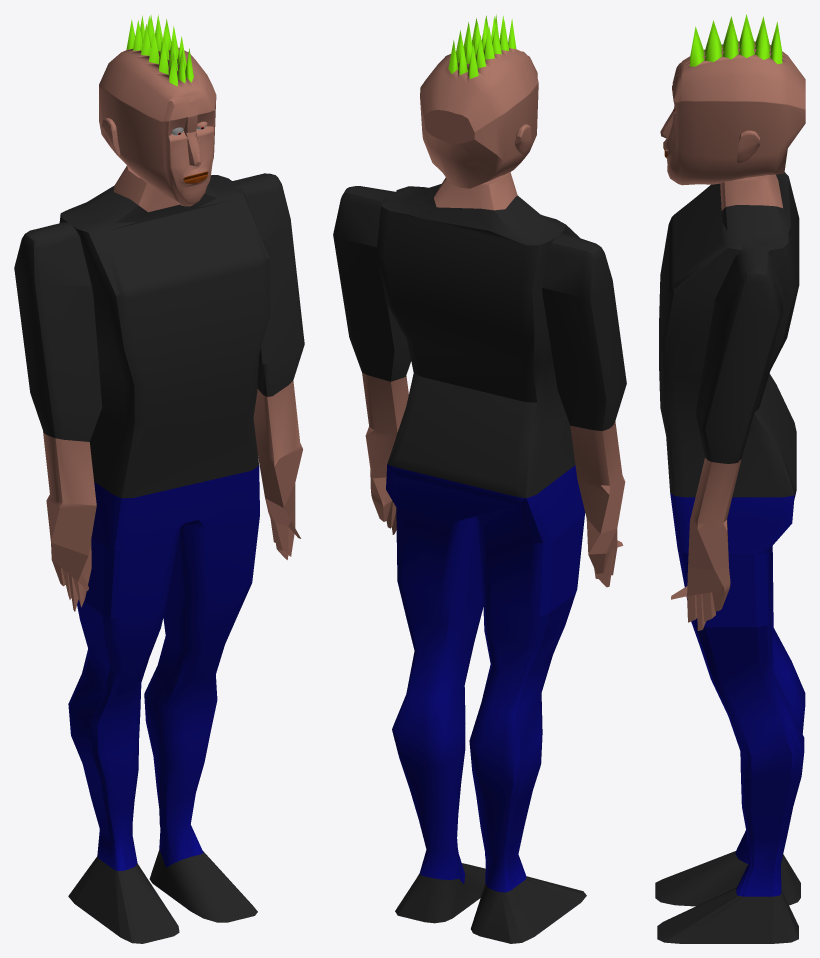
File: human_punk.fbx
The picture shows the model from 3 angles, left to right: view 1: azimuth 30°, elevation 25°; view 2: azimuth 150°, elevation 25°; view 3: azimuth 270°, elevation 25°; orthographic projection.
Parts seen in each view (by area): view 1: pCube3, pasted__pCube2; view 2: pCube3, pasted__pCube2; view 3: pCube3, pasted__pCube2.
Boxes of the visible parts, bbox=[...] form: pCube3: bbox=[14, 165, 304, 943]; pasted__pCube2: bbox=[99, 14, 216, 206]; pCube3: bbox=[333, 172, 626, 943]; pasted__pCube2: bbox=[420, 14, 538, 188]; pCube3: bbox=[655, 172, 805, 943]; pasted__pCube2: bbox=[660, 14, 805, 185].
Size of the model in its own units: 8.83 by 28.48 by 4.33.
